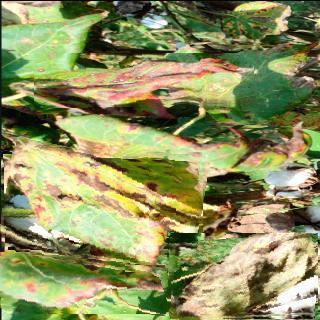blight: (1, 144, 204, 264), (166, 232, 318, 320), (34, 52, 256, 106), (0, 250, 185, 313)
